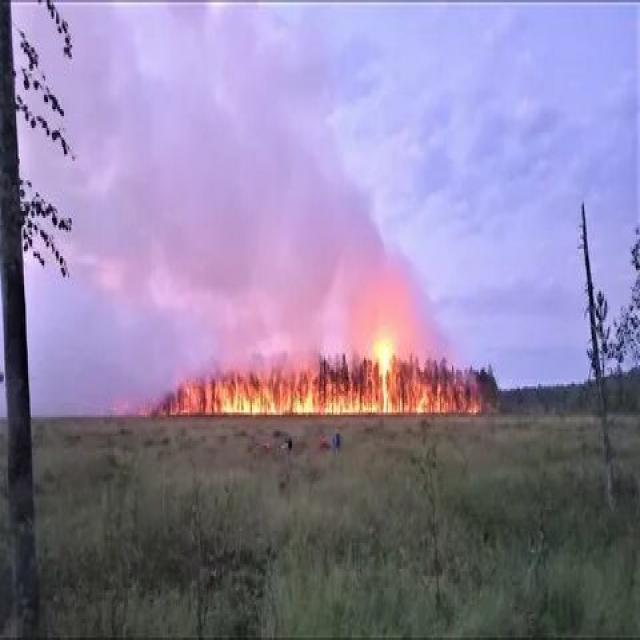Fire: (164, 324, 476, 446)
Smoke: (69, 2, 595, 312)
